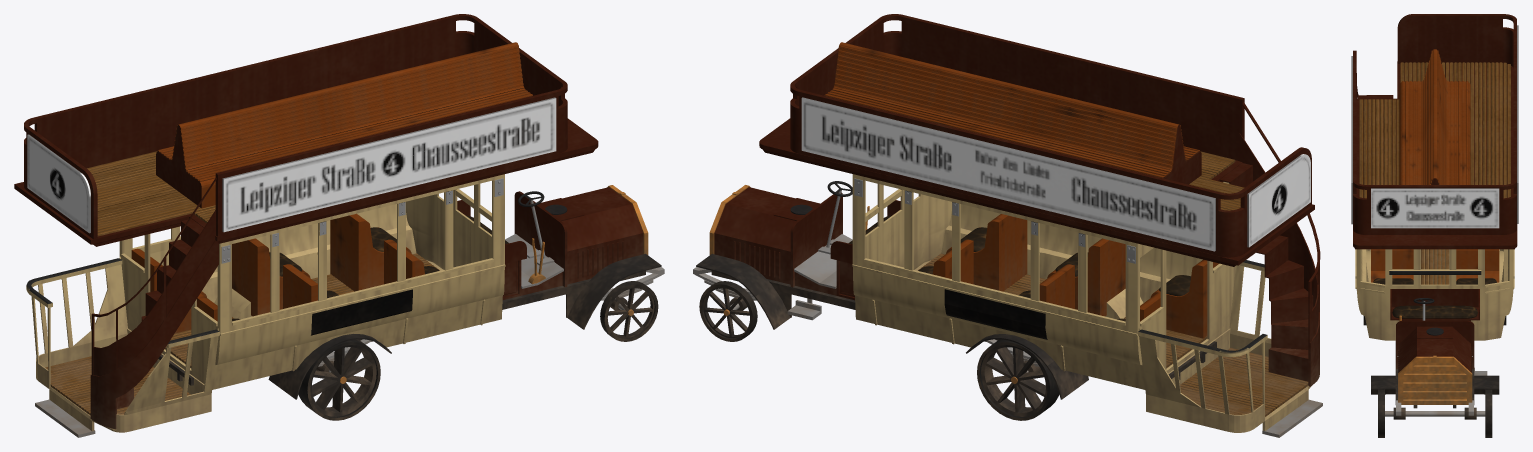
File: daimler_bus_1911_merged.gltf
The picture shows the model from 3 angles, left to right: view 1: azimuth 30°, elevation 25°; view 2: azimuth 150°, elevation 25°; view 3: azimuth 270°, elevation 25°; orthographic projection. The views are drawn at different scales.
Visible parts, largest first — view 1: daimler_1911_bus; view 2: daimler_1911_bus; view 3: daimler_1911_bus.
Part boxes in pixels (bbox=[...]): daimler_1911_bus: bbox=[14, 14, 664, 437]; daimler_1911_bus: bbox=[693, 14, 1322, 437]; daimler_1911_bus: bbox=[1351, 14, 1518, 437].
Bounding box in the file's own units: 7.89 × 3.76 × 2.51.
1 material, 1 textured.
